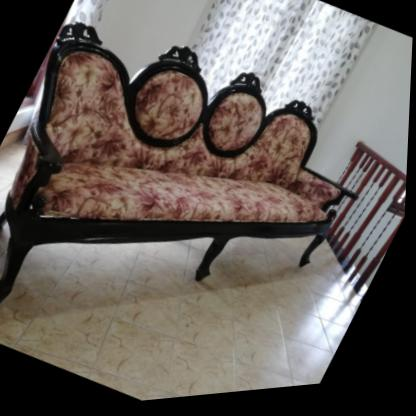Ceramic floor: (0, 243, 370, 404)
Sofa: (0, 0, 401, 416)
